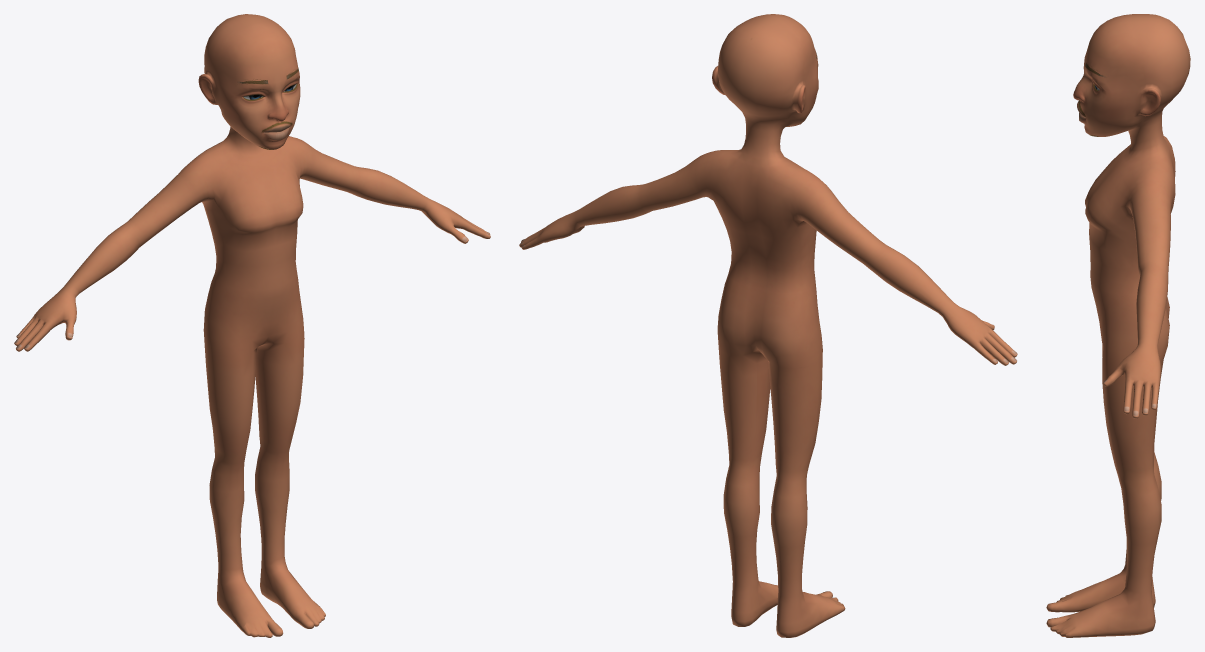
Rendered from frame_0069.glb.
3 views of the same model, side by side, from view 1: azimuth 30°, elevation 25°; view 2: azimuth 150°, elevation 25°; view 3: azimuth 270°, elevation 25° (orthographic). The views are drawn at different scales.
Visible parts, largest first — view 1: frame_0069_head_geo; view 2: frame_0069_head_geo; view 3: frame_0069_head_geo.
Part boxes in pixels (x1,y1,x2,y2): frame_0069_head_geo: (14,14,490,637); frame_0069_head_geo: (519,14,1017,637); frame_0069_head_geo: (1046,14,1190,637).
Bounding box in the file's own units: 1.28 × 1.5 × 0.3253.
Materials: 3 (3 with a texture image).
